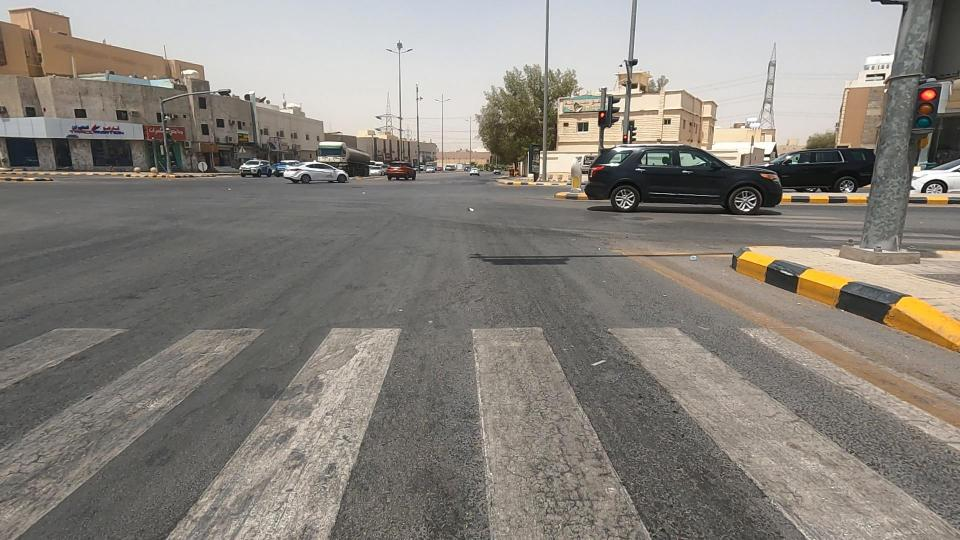BAD_BILLBOARD: (518, 71, 638, 136)
GARBAGE: (446, 191, 496, 225), (677, 242, 714, 270)
